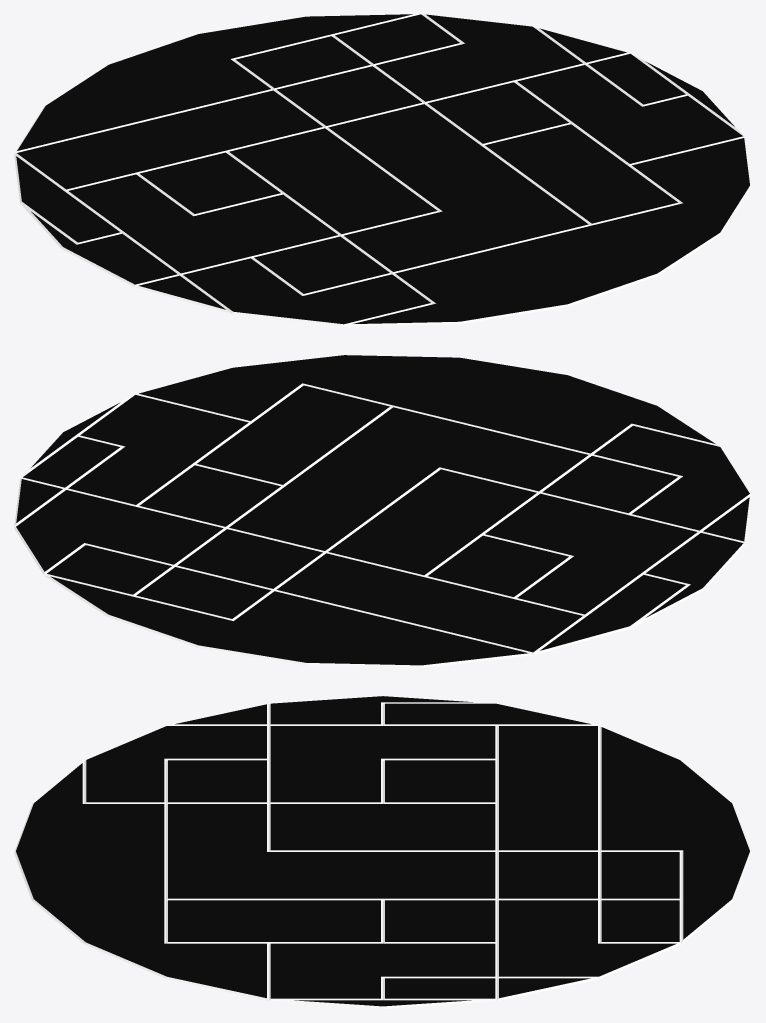
File: Cyberpunk Round Tile.002.glb
3 views of the same model, one above another, from view 1: azimuth 30°, elevation 25°; view 2: azimuth 150°, elevation 25°; view 3: azimuth 270°, elevation 25° (orthographic).
Parts seen in each view (by area): view 1: Cyberpunk Round Tile.002; view 2: Cyberpunk Round Tile.002; view 3: Cyberpunk Round Tile.002.
Part boxes in pixels (box(x1,y1,x2,y2)): Cyberpunk Round Tile.002: box(14, 14, 751, 326); Cyberpunk Round Tile.002: box(14, 355, 751, 667); Cyberpunk Round Tile.002: box(14, 696, 751, 1008).
Bounding box in the file's own units: 0.845 × 0.00211 × 0.845.
Materials: 1 (1 with a texture image).
